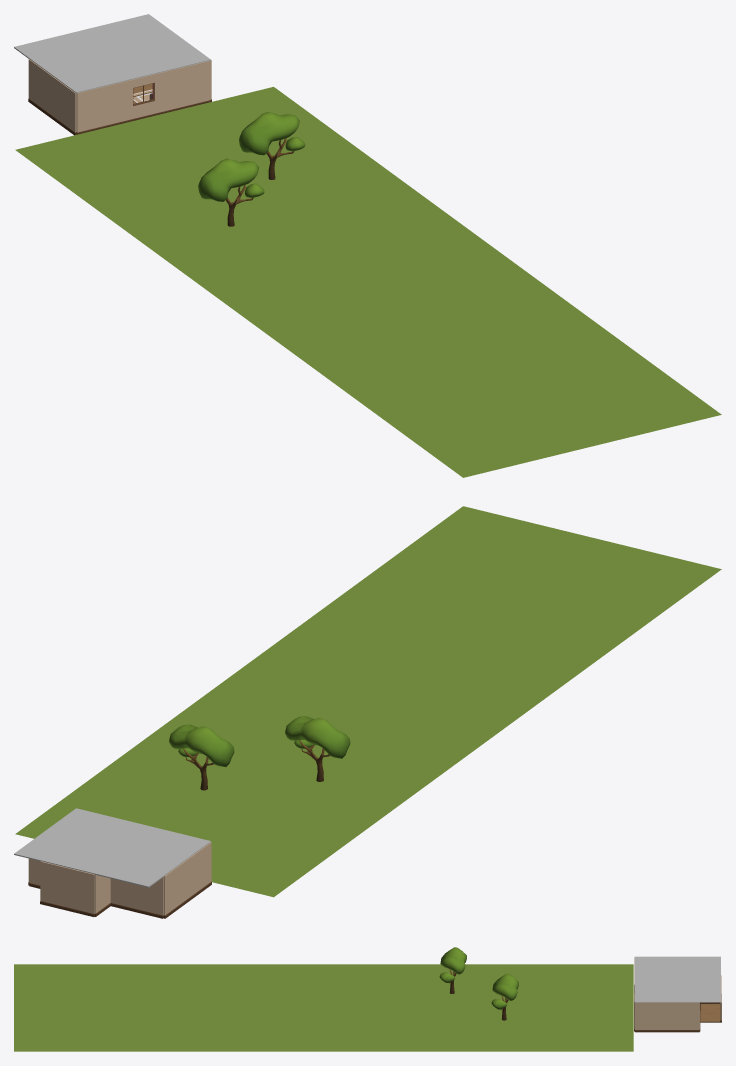
File: level02.glb
The picture shows the model from 3 angles, top to bottom: view 1: azimuth 30°, elevation 25°; view 2: azimuth 150°, elevation 25°; view 3: azimuth 270°, elevation 25°; orthographic projection. The views are drawn at different scales.
Visible parts, largest first — view 1: BG_02, Ceiling__0_, Tree_05__1_, Tree_05, WallFloor1_01__5_, WallFloor1_01__7_, WallFloor1_01__6_, WallFloor1_02; view 2: BG_02, Ceiling__0_, WallFloor1_01__1_, WallFloor1_01__5_, Tree_05, Tree_05__1_, WallFloor1_01__3_; view 3: BG_02, Ceiling__0_, WallFloor1_01__4_, Tree_05, Tree_05__1_, Floor_01__1_.
Part boxes in pixels (left/top/right/bottom): BG_02: left=15, top=87, right=721, bottom=477; Ceiling__0_: left=14, top=14, right=210, bottom=93; Tree_05__1_: left=198, top=158, right=264, bottom=226; Tree_05: left=239, top=112, right=305, bottom=179; WallFloor1_01__5_: left=28, top=59, right=76, bottom=135; WallFloor1_01__7_: left=76, top=81, right=124, bottom=134; WallFloor1_01__6_: left=163, top=60, right=210, bottom=113; WallFloor1_02: left=124, top=72, right=164, bottom=122; BG_02: left=15, top=506, right=721, bottom=897; Ceiling__0_: left=14, top=808, right=210, bottom=887; WallFloor1_01__1_: left=40, top=861, right=94, bottom=916; WallFloor1_01__5_: left=163, top=842, right=211, bottom=918; Tree_05: left=169, top=724, right=234, bottom=790; Tree_05__1_: left=285, top=716, right=350, bottom=781; WallFloor1_01__3_: left=115, top=877, right=163, bottom=918; BG_02: left=14, top=964, right=633, bottom=1051; Ceiling__0_: left=634, top=956, right=720, bottom=1002; WallFloor1_01__4_: left=635, top=1002, right=699, bottom=1032; Tree_05: left=491, top=973, right=518, bottom=1020; Tree_05__1_: left=439, top=947, right=466, bottom=993; Floor_01__1_: left=700, top=1012, right=719, bottom=1022.
Size of the model in its own units: 24 by 5.78 by 82.26.
3 materials, 2 textured.
